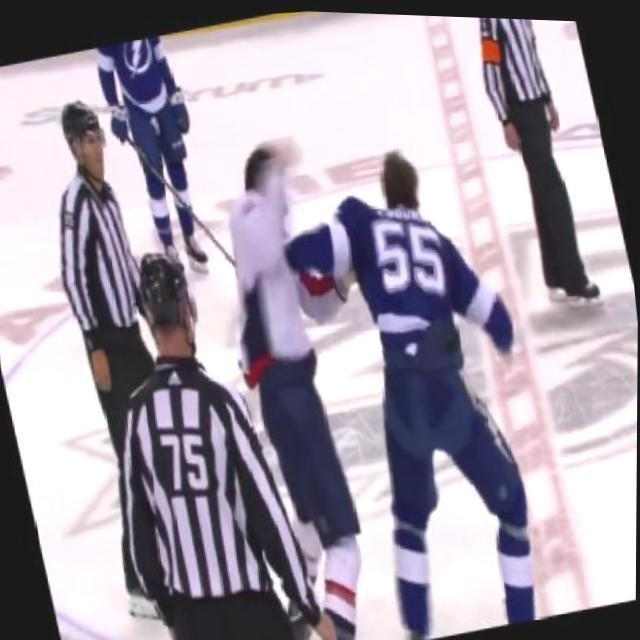fight: (187, 82, 584, 640)
